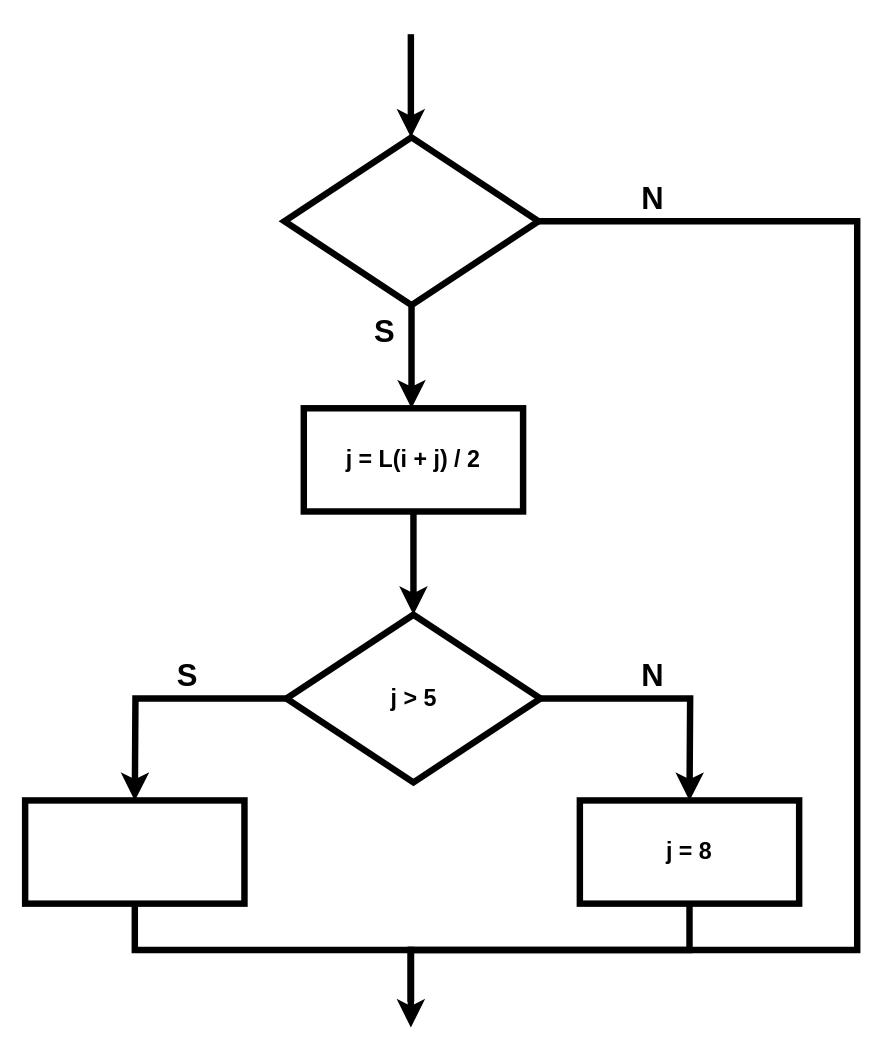
The diagram is 884 pixels wide and 1063 high, and some of its shapes have lost their labels. The shapes that lost their labels are listed below. From the top down, each one's box as (x1, y1, x2, y2) in pixels, then its label:
(281, 134, 541, 308): i < 10 || j < 10
(21, 797, 247, 906): j = 10
